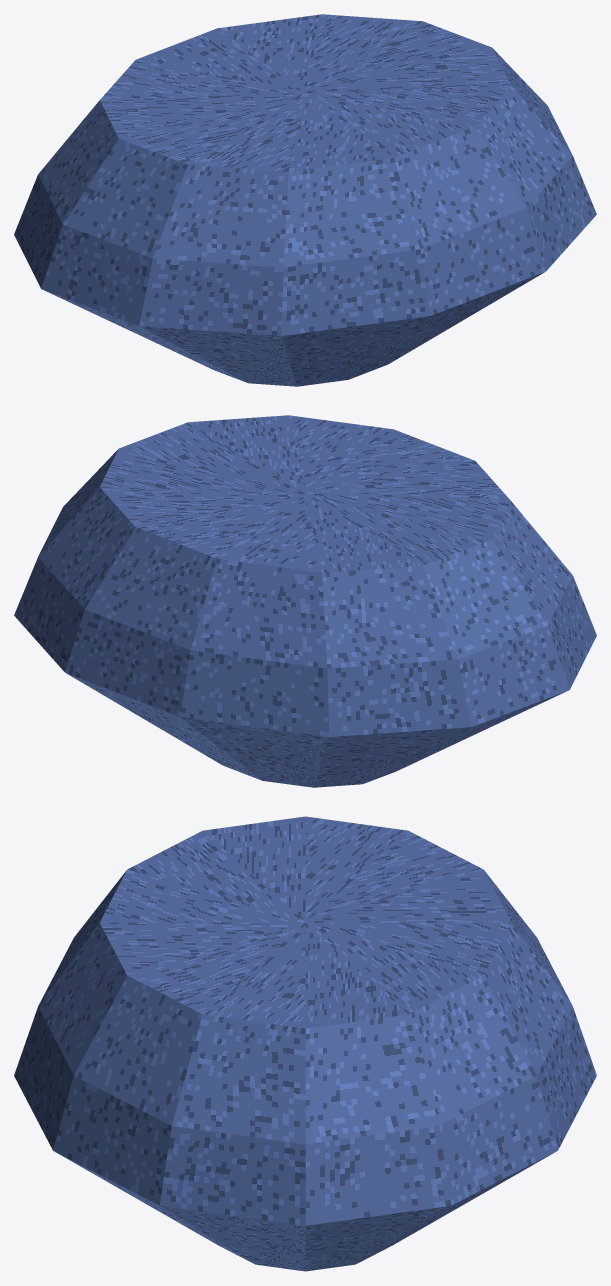
Rendered from sapphire.glb.
The picture shows the model from 3 angles, top to bottom: view 1: azimuth 30°, elevation 25°; view 2: azimuth 150°, elevation 25°; view 3: azimuth 270°, elevation 25°; orthographic projection. The views are drawn at different scales.
Parts seen in each view (by area): view 1: block_faceted cut stone; view 2: block_faceted cut stone; view 3: block_faceted cut stone.
Part boxes in pixels (<box>): block_faceted cut stone: <box>14,14,596,386</box>; block_faceted cut stone: <box>14,415,596,787</box>; block_faceted cut stone: <box>14,816,596,1271</box>.
Bounding box in the file's own units: 0.0505 × 0.0246 × 0.0414.
1 material, 1 textured.
